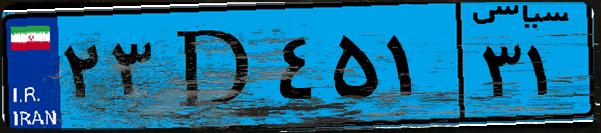1: (385, 28, 445, 110), (525, 38, 570, 115)
2: (57, 26, 110, 100)
3: (475, 38, 525, 113), (110, 28, 158, 98)
4: (270, 28, 330, 110)
5: (330, 28, 385, 110)
D: (158, 12, 270, 120)
